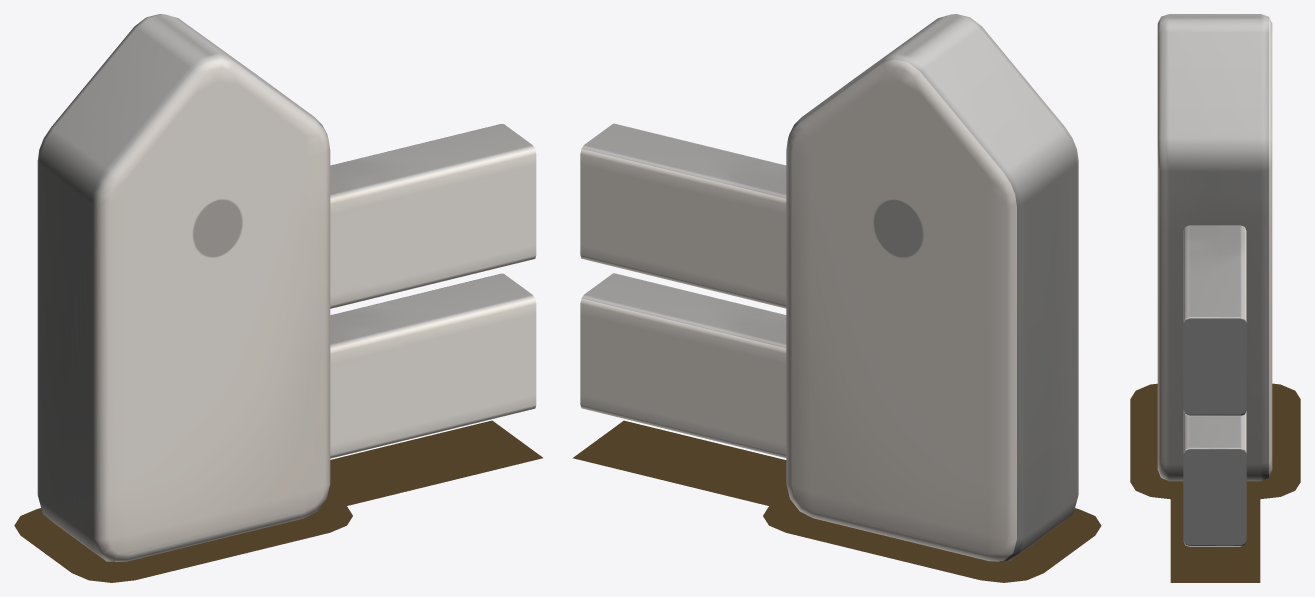
Rendered from FenceB_L.fbx.
The picture shows the model from 3 angles, left to right: view 1: azimuth 30°, elevation 25°; view 2: azimuth 150°, elevation 25°; view 3: azimuth 270°, elevation 25°; orthographic projection. The views are drawn at different scales.
Visible parts, largest first — view 1: FenceBL_body, FenceBL_L, FenceBL_SDW; view 2: FenceBL_body, FenceBL_L, FenceBL_SDW; view 3: FenceBL_body, FenceBL_L, FenceBL_SDW.
Part boxes in pixels (bbox=[...]): FenceBL_body: bbox=[37, 14, 330, 561]; FenceBL_L: bbox=[330, 124, 536, 458]; FenceBL_SDW: bbox=[14, 420, 542, 582]; FenceBL_body: bbox=[786, 14, 1078, 561]; FenceBL_L: bbox=[580, 123, 786, 457]; FenceBL_SDW: bbox=[572, 420, 1101, 582]; FenceBL_body: bbox=[1157, 14, 1272, 481]; FenceBL_L: bbox=[1183, 225, 1246, 546]; FenceBL_SDW: bbox=[1130, 383, 1300, 582].
Size of the model in its own units: 70.55 by 69.37 by 25.3.
2 materials, 1 textured.
